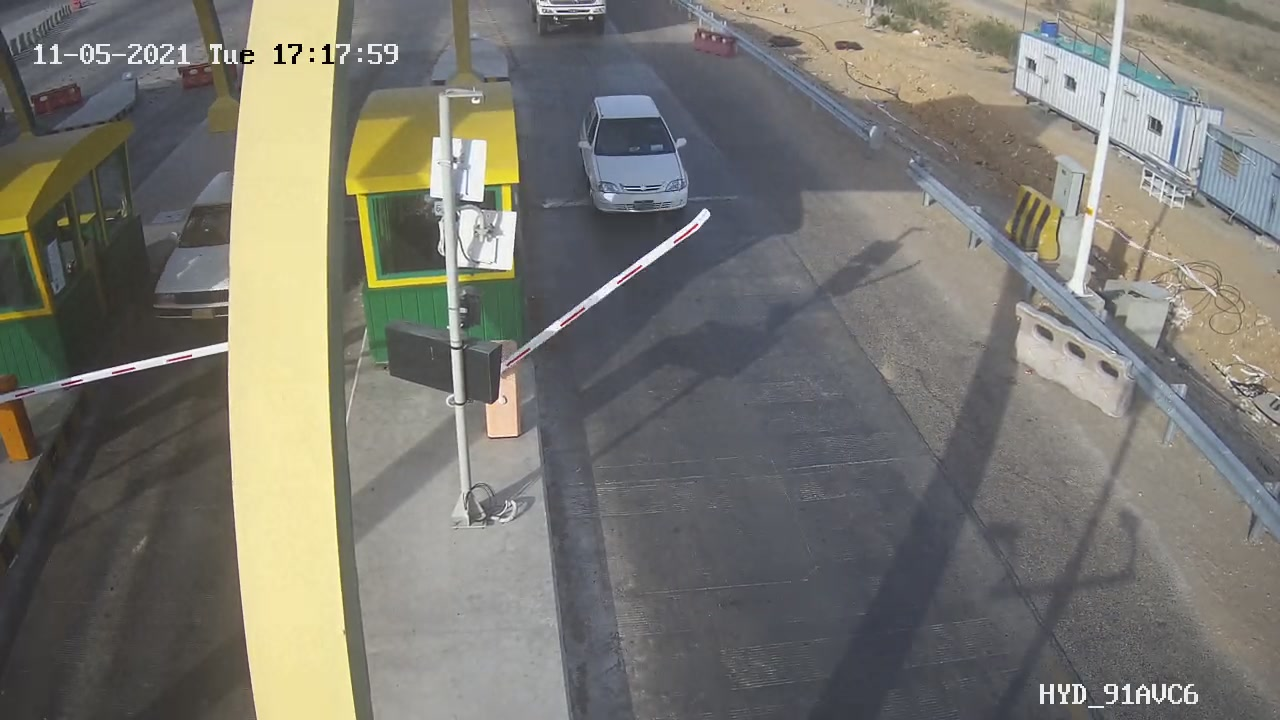F1: (564, 83, 709, 238)
